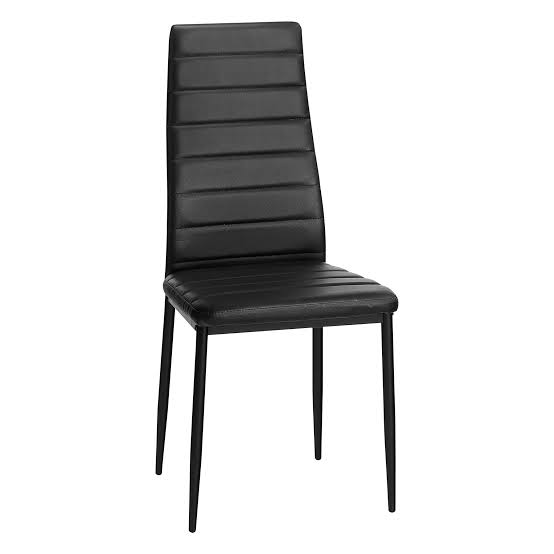chair: (140, 15, 407, 538)
